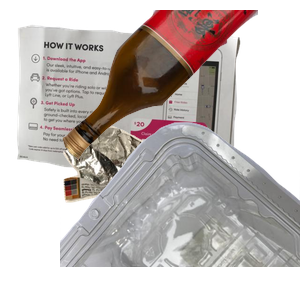glass: (60, 10, 300, 163)
paper: (14, 22, 247, 191)
plastic: (60, 120, 300, 300)
trash: (61, 123, 273, 300)
